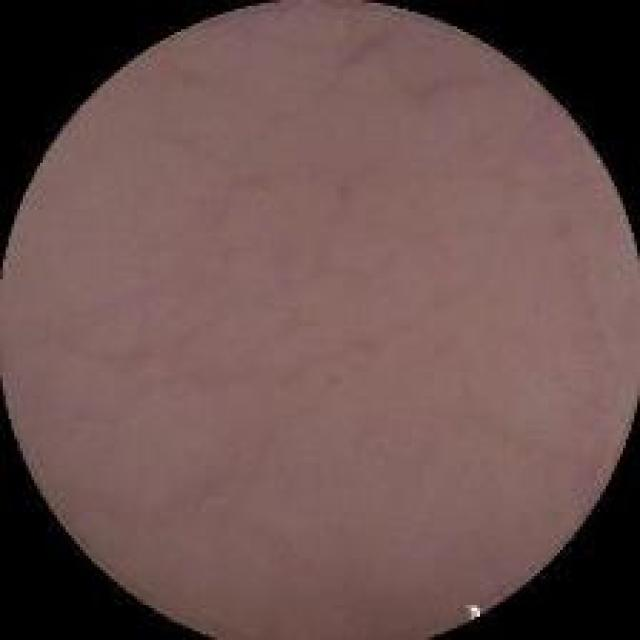blur: (2, 5, 632, 636)
color misalignment: (458, 592, 492, 626)
